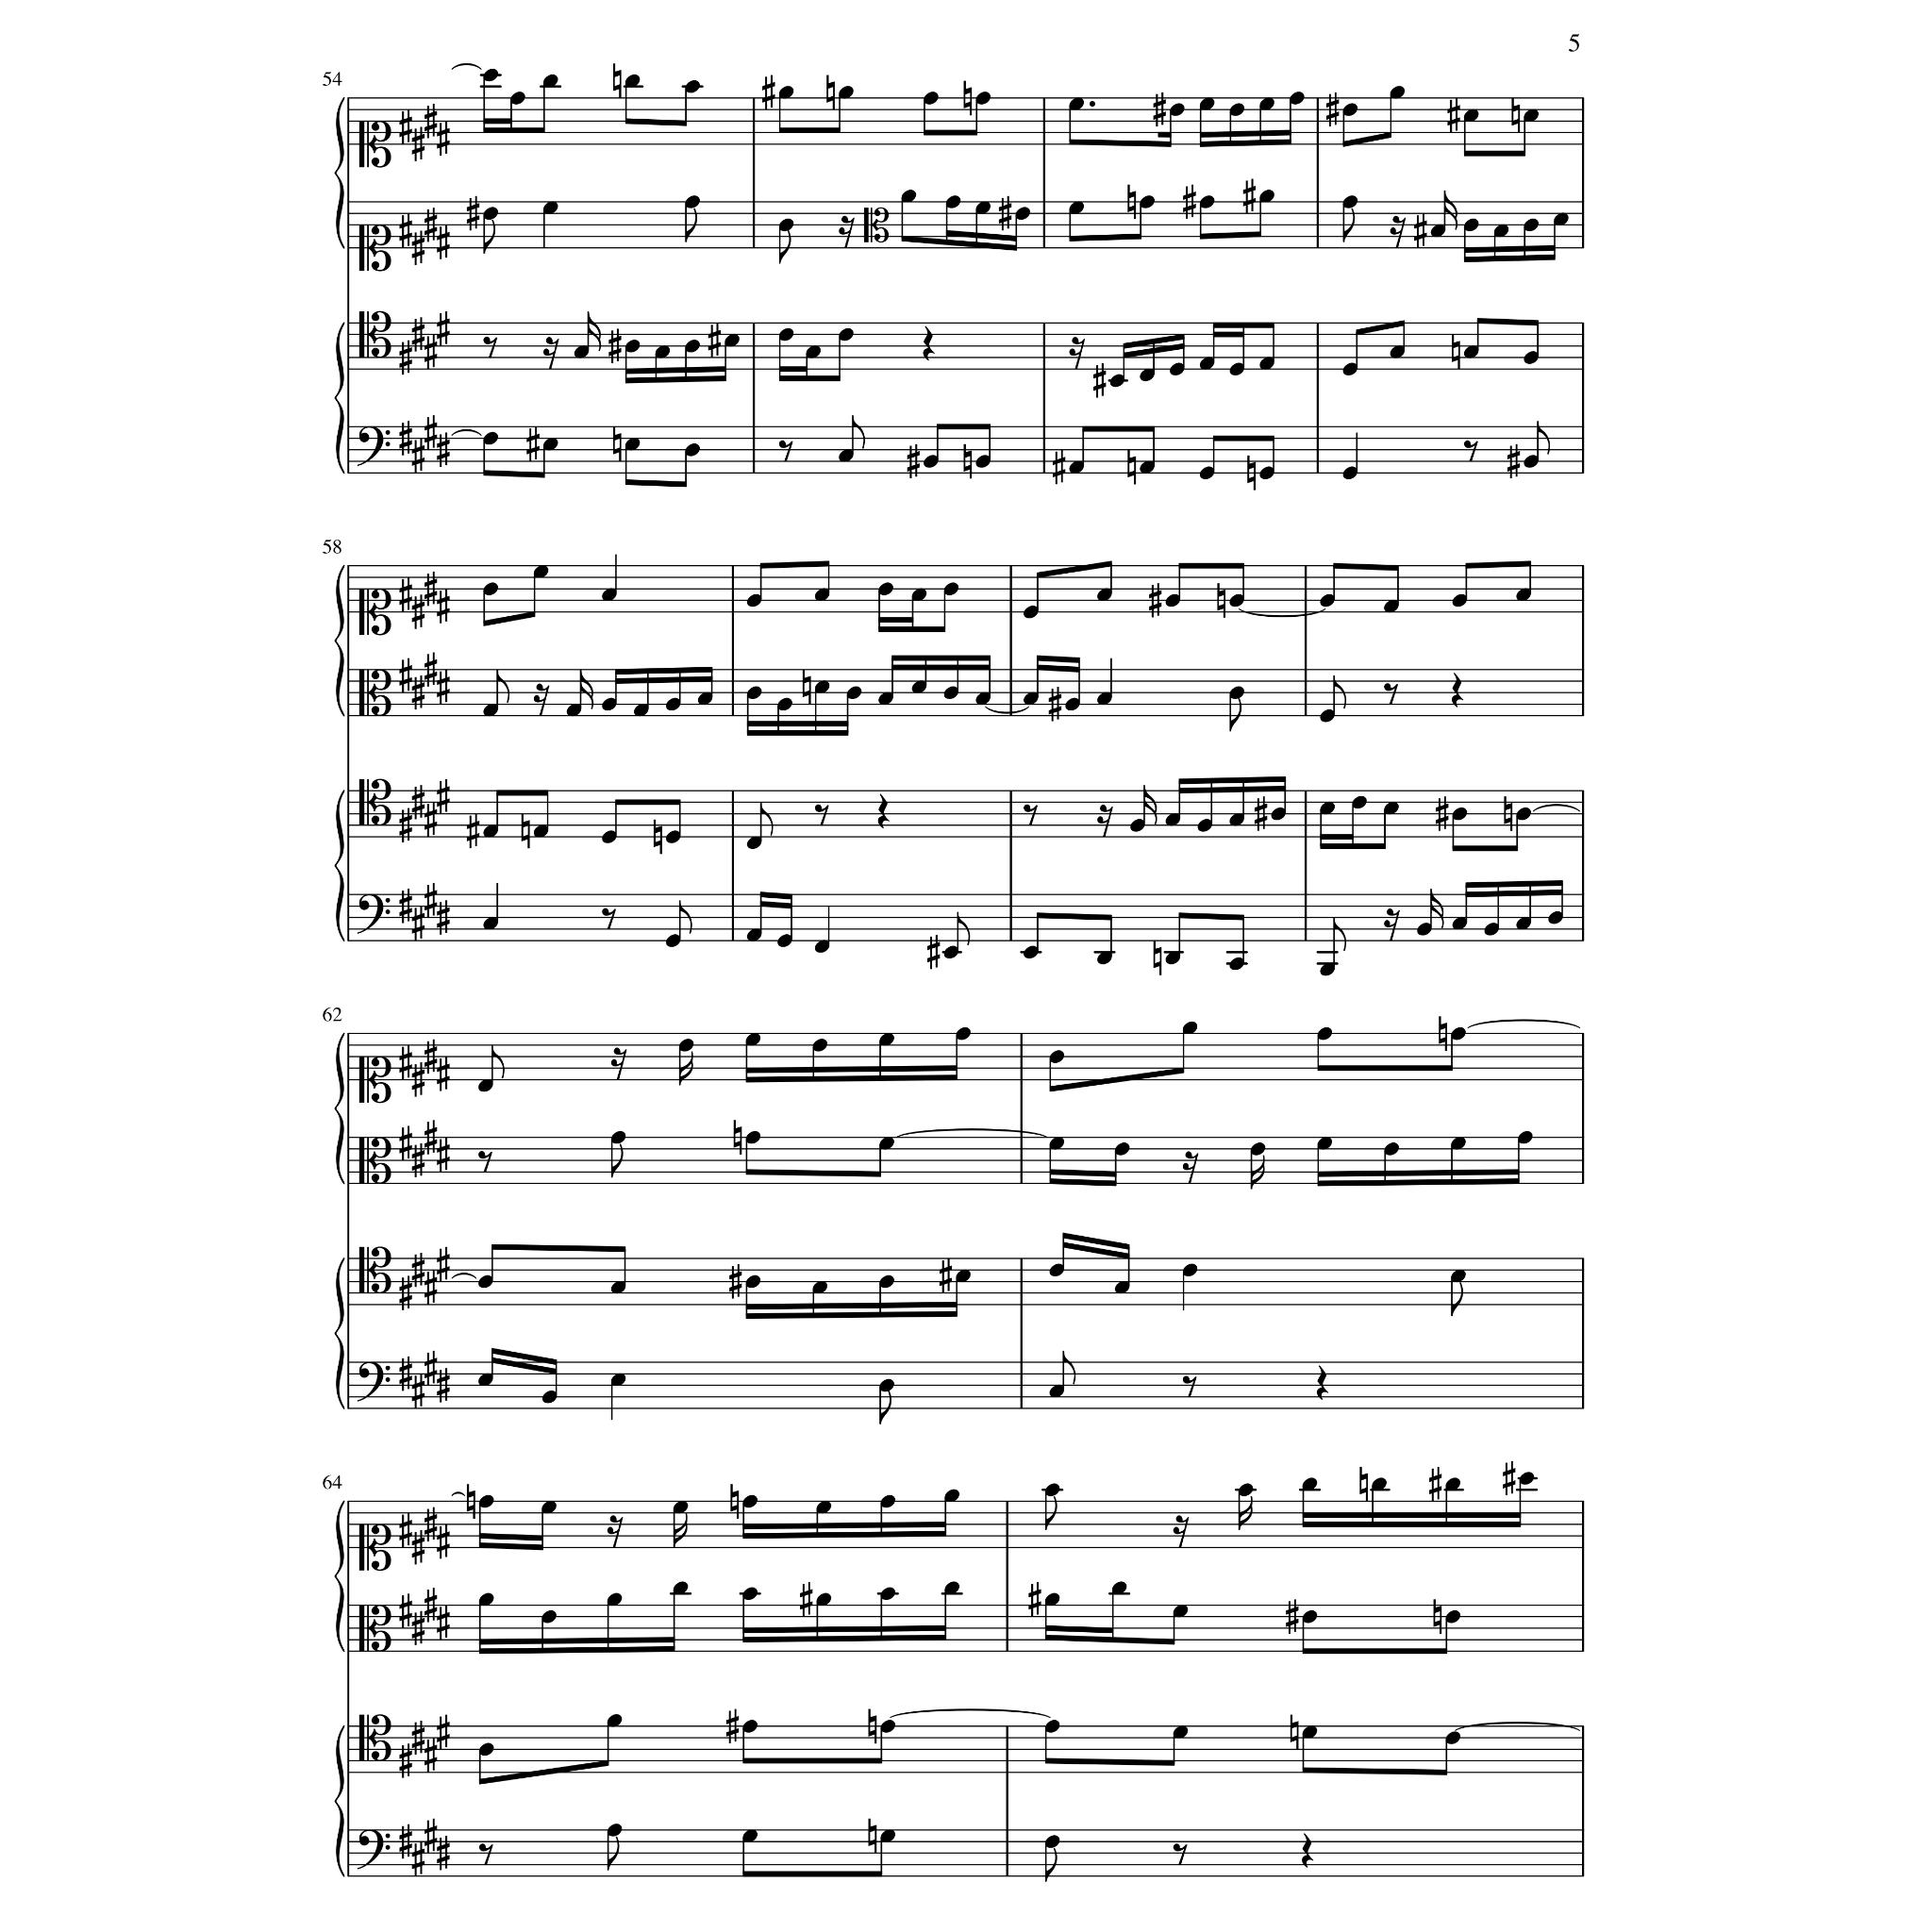brace: (333, 564, 345, 718), (333, 789, 345, 943), (333, 1031, 345, 1185), (333, 97, 345, 249), (333, 322, 345, 474), (333, 1258, 345, 1410), (333, 1725, 345, 1877), (333, 1500, 345, 1652)
fClef: (357, 426, 391, 467), (357, 893, 391, 934), (357, 1362, 391, 1403), (357, 1829, 391, 1870)
flag16thDown: (1249, 1154, 1265, 1189), (679, 1051, 694, 1086), (1238, 1495, 1253, 1530), (672, 1513, 686, 1548)
flag16thUp: (1444, 189, 1458, 230), (587, 311, 602, 352), (1145, 786, 1159, 826), (580, 671, 594, 711), (1430, 890, 1444, 929)
flag8thDown: (1230, 697, 1242, 732), (1451, 1281, 1463, 1316), (607, 1836, 619, 1872), (1343, 209, 1355, 242), (685, 209, 697, 242), (483, 219, 495, 253), (778, 230, 791, 264), (610, 1143, 623, 1177), (879, 1391, 892, 1424), (1046, 1495, 1056, 1530), (1046, 1849, 1056, 1882)
flag8thUp: (851, 416, 865, 449), (1332, 676, 1346, 709), (1332, 918, 1346, 952), (495, 671, 510, 704), (957, 913, 971, 947), (1062, 1352, 1076, 1385), (1537, 421, 1550, 456), (679, 901, 692, 934), (761, 803, 773, 837), (492, 1046, 504, 1079)
noteheadBlack: (1341, 363, 1359, 377), (1014, 207, 1031, 221), (1228, 957, 1246, 971), (1228, 686, 1246, 701), (1228, 812, 1246, 826), (1483, 922, 1500, 936), (745, 686, 763, 701), (745, 835, 763, 849), (1113, 1281, 1131, 1295), (943, 1490, 961, 1504), (1260, 97, 1276, 111), (1260, 357, 1276, 372), (1260, 189, 1276, 203), (1139, 368, 1155, 382), (1139, 460, 1155, 474), (1169, 363, 1185, 377), (1198, 97, 1214, 111), (1198, 357, 1214, 372), (1523, 350, 1539, 364), (1523, 110, 1539, 124), (1523, 218, 1539, 232), (1389, 345, 1405, 359), (1463, 110, 1479, 124), (1463, 218, 1479, 232), (1463, 345, 1479, 359), (625, 437, 640, 451), (655, 345, 671, 359), (573, 345, 589, 359), (625, 74, 640, 88), (778, 218, 794, 232), (778, 327, 794, 341), (683, 80, 699, 94), (483, 69, 499, 83), (541, 74, 557, 88), (541, 437, 557, 451), (483, 207, 499, 221), (483, 432, 499, 446), (901, 189, 916, 203), (1069, 97, 1085, 111), (1069, 460, 1085, 474), (805, 345, 821, 359), (839, 449, 855, 464), (839, 327, 855, 341), (1320, 962, 1336, 977), (1320, 801, 1336, 816), (1270, 807, 1286, 821), (1097, 692, 1113, 706), (1097, 952, 1113, 966), (1164, 812, 1180, 826), (1164, 952, 1180, 966), (1548, 911, 1564, 925), (1516, 807, 1532, 821), (1516, 916, 1532, 931), (1382, 600, 1398, 614), (1382, 801, 1398, 816), (1451, 807, 1467, 821), (1451, 916, 1467, 931), (1417, 922, 1433, 936), (697, 692, 713, 706), (533, 564, 548, 579), (483, 582, 499, 596), (483, 916, 499, 931), (943, 582, 959, 596), (943, 686, 959, 701), (878, 692, 893, 706), (846, 686, 862, 701), (878, 582, 893, 596), (1023, 605, 1039, 619), (1023, 692, 1039, 706), (975, 692, 991, 706), (1182, 1263, 1198, 1277), (1182, 1021, 1198, 1035), (1049, 1384, 1065, 1398), (1049, 1263, 1065, 1277), (1049, 1136, 1065, 1150), (1049, 1049, 1065, 1063), (1518, 1131, 1534, 1145), (1316, 1136, 1332, 1150), (1451, 1136, 1467, 1150), (478, 1373, 494, 1387), (478, 1276, 494, 1290), (610, 1373, 626, 1387), (610, 1281, 626, 1295), (610, 1131, 626, 1145), (878, 1276, 893, 1290), (878, 1136, 893, 1150), (812, 1281, 828, 1295), (812, 1039, 828, 1053), (745, 1276, 761, 1290), (745, 1131, 761, 1145), (678, 1039, 694, 1053), (1173, 1725, 1189, 1739), (1302, 1610, 1318, 1624), (1237, 1483, 1253, 1497), (1044, 1720, 1060, 1734), (1044, 1835, 1060, 1849), (1044, 1592, 1060, 1606), (1044, 1483, 1060, 1497), (1445, 1730, 1461, 1744), (1302, 1725, 1318, 1739), (1445, 1610, 1461, 1624), (541, 1610, 557, 1624), (541, 1500, 557, 1514), (607, 1592, 623, 1606), (478, 1592, 494, 1606), (478, 1495, 494, 1509), (816, 1592, 832, 1606), (816, 1500, 832, 1514), (879, 1829, 895, 1844), (879, 1720, 895, 1734), (879, 1587, 895, 1601), (879, 1495, 895, 1509), (741, 1720, 757, 1734), (741, 1587, 757, 1601), (741, 1495, 757, 1509), (741, 1829, 757, 1844), (672, 1500, 688, 1514), (1341, 104, 1359, 117), (1341, 196, 1359, 209), (1341, 467, 1359, 479), (1228, 594, 1246, 607), (745, 594, 763, 607), (745, 929, 763, 941), (1113, 1143, 1131, 1155), (943, 1582, 961, 1594), (1230, 363, 1244, 377), (1260, 467, 1276, 479), (1288, 92, 1304, 104), (1109, 375, 1125, 387), (1139, 196, 1155, 209), (1198, 196, 1214, 209), (1198, 467, 1214, 479), (1169, 104, 1185, 117), (1553, 214, 1569, 226), (1493, 225, 1509, 237), (1523, 456, 1539, 469), (1389, 87, 1405, 99), (1430, 225, 1445, 237), (625, 340, 640, 352), (724, 334, 740, 347), (778, 87, 794, 99), (683, 196, 699, 209), (683, 340, 699, 352), (683, 444, 699, 456), (541, 202, 557, 214), (510, 92, 525, 104), (945, 196, 961, 209), (975, 92, 991, 104), (975, 202, 991, 214), (975, 456, 991, 469), (924, 92, 939, 104), (924, 456, 939, 469), (1069, 202, 1085, 214), (839, 87, 855, 99), (1196, 819, 1212, 832), (1320, 709, 1336, 722), (1320, 594, 1336, 607), (1065, 699, 1081, 711), (1097, 589, 1113, 602), (1164, 594, 1180, 607), (1131, 819, 1146, 832), (1516, 589, 1532, 602), (1352, 796, 1368, 809), (1451, 594, 1467, 607), (633, 704, 649, 717), (566, 704, 582, 717), (665, 699, 681, 711), (602, 589, 617, 602), (602, 699, 617, 711), (602, 832, 617, 844), (665, 832, 681, 844), (665, 934, 681, 947), (533, 824, 548, 837), (483, 704, 499, 717), (483, 824, 499, 837), (911, 589, 927, 602), (911, 681, 927, 694), (943, 947, 959, 959), (1023, 947, 1039, 959), (814, 681, 830, 694), (814, 589, 830, 602), (777, 934, 793, 947), (777, 699, 793, 711), (814, 941, 830, 954), (1316, 1028, 1332, 1040), (1451, 1270, 1467, 1283), (1249, 1143, 1265, 1155), (1451, 1028, 1467, 1040), (1384, 1143, 1399, 1155), (541, 1391, 557, 1403), (478, 1079, 494, 1092), (878, 1033, 893, 1046), (878, 1380, 893, 1392), (955, 1270, 971, 1283), (955, 1028, 971, 1040), (745, 1033, 761, 1046), (1173, 1605, 1189, 1617), (1111, 1582, 1127, 1594), (1302, 1477, 1318, 1490), (1518, 1472, 1534, 1484), (1445, 1477, 1461, 1490), (1371, 1477, 1387, 1490), (607, 1824, 623, 1836), (607, 1714, 623, 1727), (478, 1743, 494, 1755), (672, 1582, 688, 1594), (1230, 104, 1244, 117)
rest16th: (610, 1047, 628, 1081), (1069, 338, 1086, 370), (837, 216, 855, 248), (1182, 1152, 1200, 1184), (1097, 803, 1113, 837), (1384, 908, 1399, 941), (533, 683, 548, 717), (1389, 216, 1405, 248), (543, 338, 559, 370), (1173, 1516, 1189, 1548), (607, 1516, 623, 1548)
rest8th: (1463, 441, 1479, 464), (481, 336, 497, 359), (1023, 805, 1039, 828), (814, 805, 830, 828), (1182, 1375, 1198, 1398), (478, 1844, 494, 1867), (778, 441, 793, 464), (1384, 683, 1398, 706), (602, 908, 616, 931), (1173, 1844, 1187, 1867), (478, 1152, 492, 1173)
restQuarter: (1300, 1831, 1315, 1868), (1451, 672, 1465, 708), (922, 326, 934, 361), (1316, 1366, 1329, 1401), (878, 794, 890, 828)
